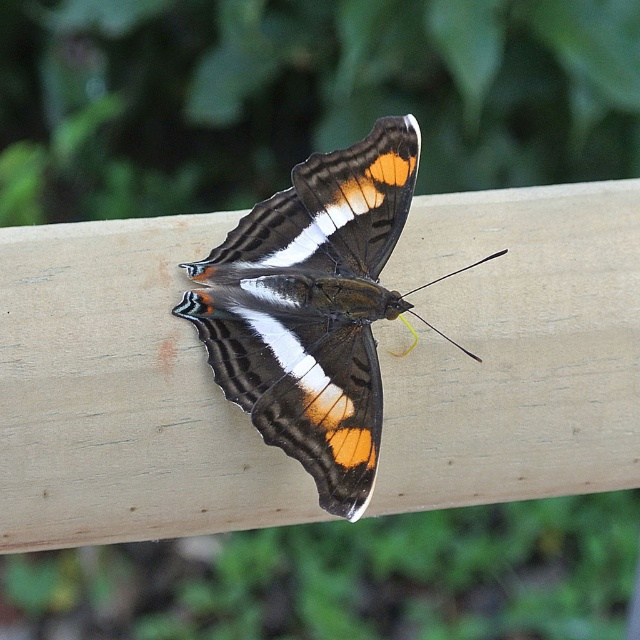Butterfly: (164, 113, 508, 518)
